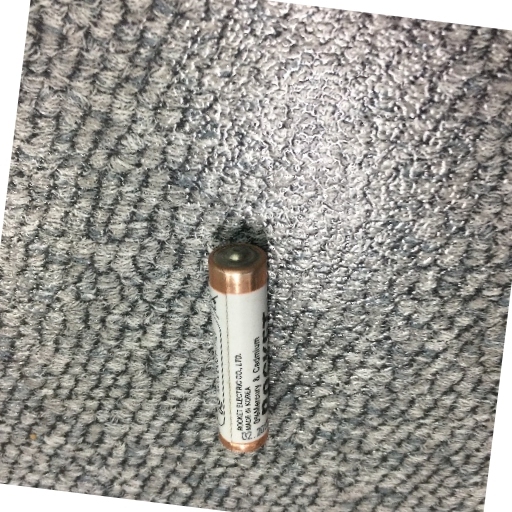Battery_0: (204, 238, 282, 460)
